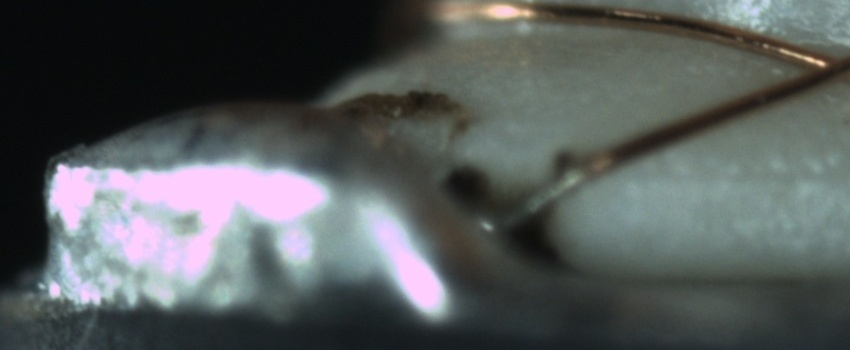CL: (775, 36, 849, 90)
DL: (632, 145, 849, 209)
TS: (493, 166, 588, 233)
